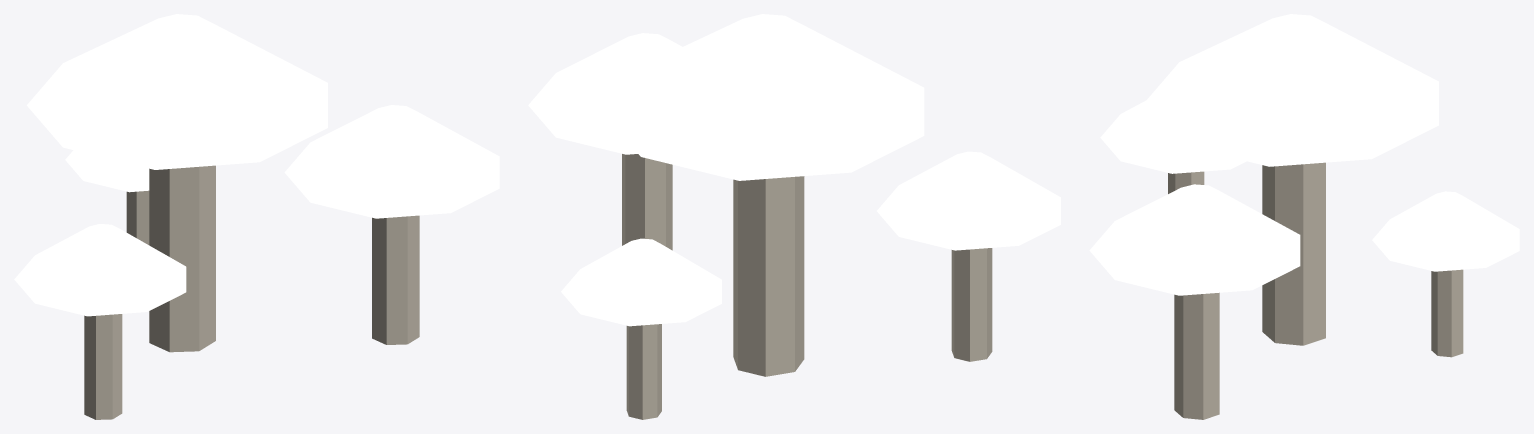
File: GlowFungus.glb
3 renders of one model, left to right at view 1: azimuth 30°, elevation 25°; view 2: azimuth 150°, elevation 25°; view 3: azimuth 270°, elevation 25°, orthographic. The views are drawn at different scales.
Parts seen in each view (by area): view 1: Glow, Body; view 2: Glow, Body; view 3: Glow, Body.
Boxes of the visible parts, x1,y1,x2,y2 form: Glow: (14, 14, 499, 316); Body: (84, 165, 419, 419); Glow: (528, 14, 1060, 326); Body: (622, 154, 992, 419); Glow: (1089, 14, 1519, 295); Body: (1168, 162, 1463, 419).
Bounding box in the file's own units: 2.44 × 1.55 × 1.98.
